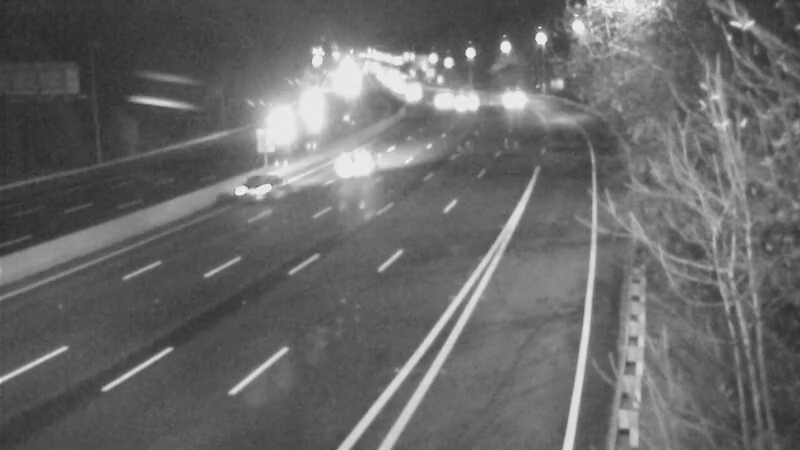vehicle: (312, 124, 392, 204), (219, 149, 299, 229), (487, 75, 537, 125), (387, 73, 437, 123), (413, 73, 463, 123), (440, 78, 490, 128), (249, 98, 299, 148)
